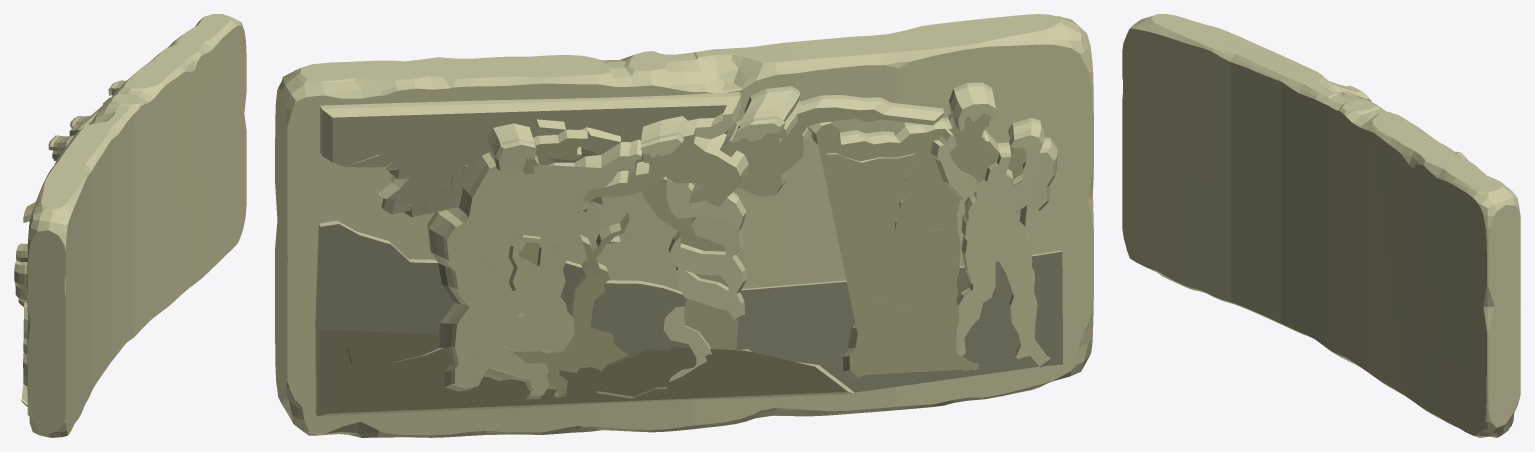
Rendered from PARAISO.fbx.
3 views of the same model, side by side, from view 1: azimuth 30°, elevation 25°; view 2: azimuth 150°, elevation 25°; view 3: azimuth 270°, elevation 25° (orthographic). The views are drawn at different scales.
Visible parts, largest first — view 1: Cube.005_dmg.003; view 2: Cube.005_dmg.003; view 3: Cube.005_dmg.003.
Boxes of the visible parts, x1=… form: Cube.005_dmg.003: x1=14, y1=14, x2=246, y2=437; Cube.005_dmg.003: x1=275, y1=14, x2=1093, y2=437; Cube.005_dmg.003: x1=1122, y1=14, x2=1520, y2=437.
Size of the model in its own units: 1017 by 602 by 867.
